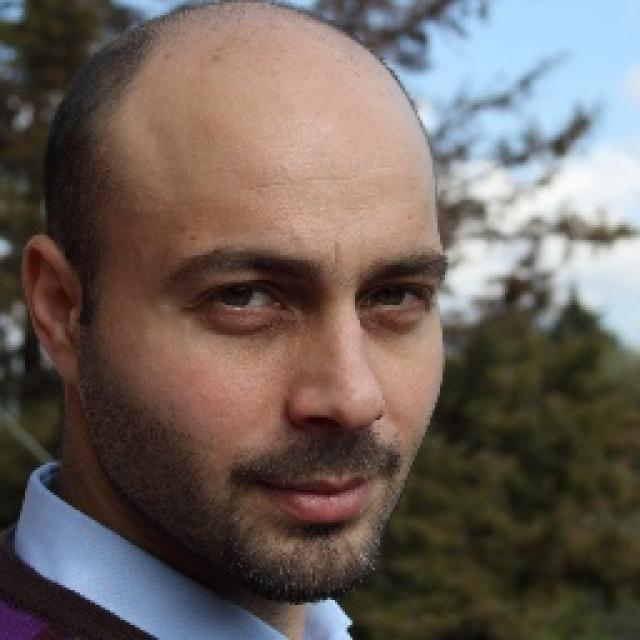earlobe: (46, 336, 84, 386)
eye: (202, 284, 288, 312), (359, 284, 426, 312)
nose: (283, 406, 410, 480)
wholeear: (20, 234, 85, 387)
